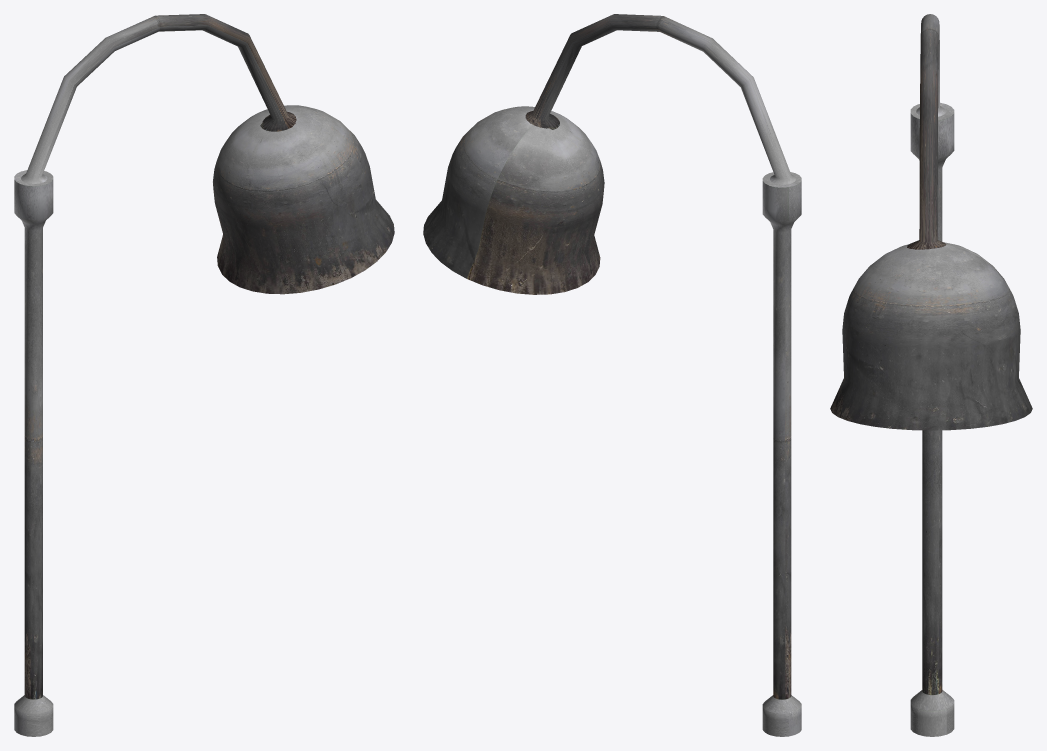
The model's file is newLampPost.FBX.
The picture shows the model from 3 angles, left to right: view 1: azimuth 30°, elevation 25°; view 2: azimuth 150°, elevation 25°; view 3: azimuth 270°, elevation 25°; orthographic projection. The views are drawn at different scales.
Visible parts, largest first — view 1: Sphere005, Cylinder002, Cylinder004; view 2: Sphere005, Cylinder002, Cylinder004; view 3: Sphere005, Cylinder002, Cylinder004.
Boxes of the visible parts, x1=… form: Sphere005: x1=213, y1=105, x2=394, y2=294; Cylinder002: x1=14, y1=170, x2=53, y2=736; Cylinder004: x1=21, y1=14, x2=296, y2=183; Sphere005: x1=423, y1=106, x2=604, y2=294; Cylinder002: x1=762, y1=172, x2=801, y2=736; Cylinder004: x1=525, y1=14, x2=795, y2=184; Sphere005: x1=830, y1=242, x2=1032, y2=430; Cylinder002: x1=910, y1=102, x2=954, y2=736; Cylinder004: x1=907, y1=14, x2=946, y2=249.
Size of the model in its own units: 180 by 321 by 77.16.
Materials: 3 (3 with a texture image).
